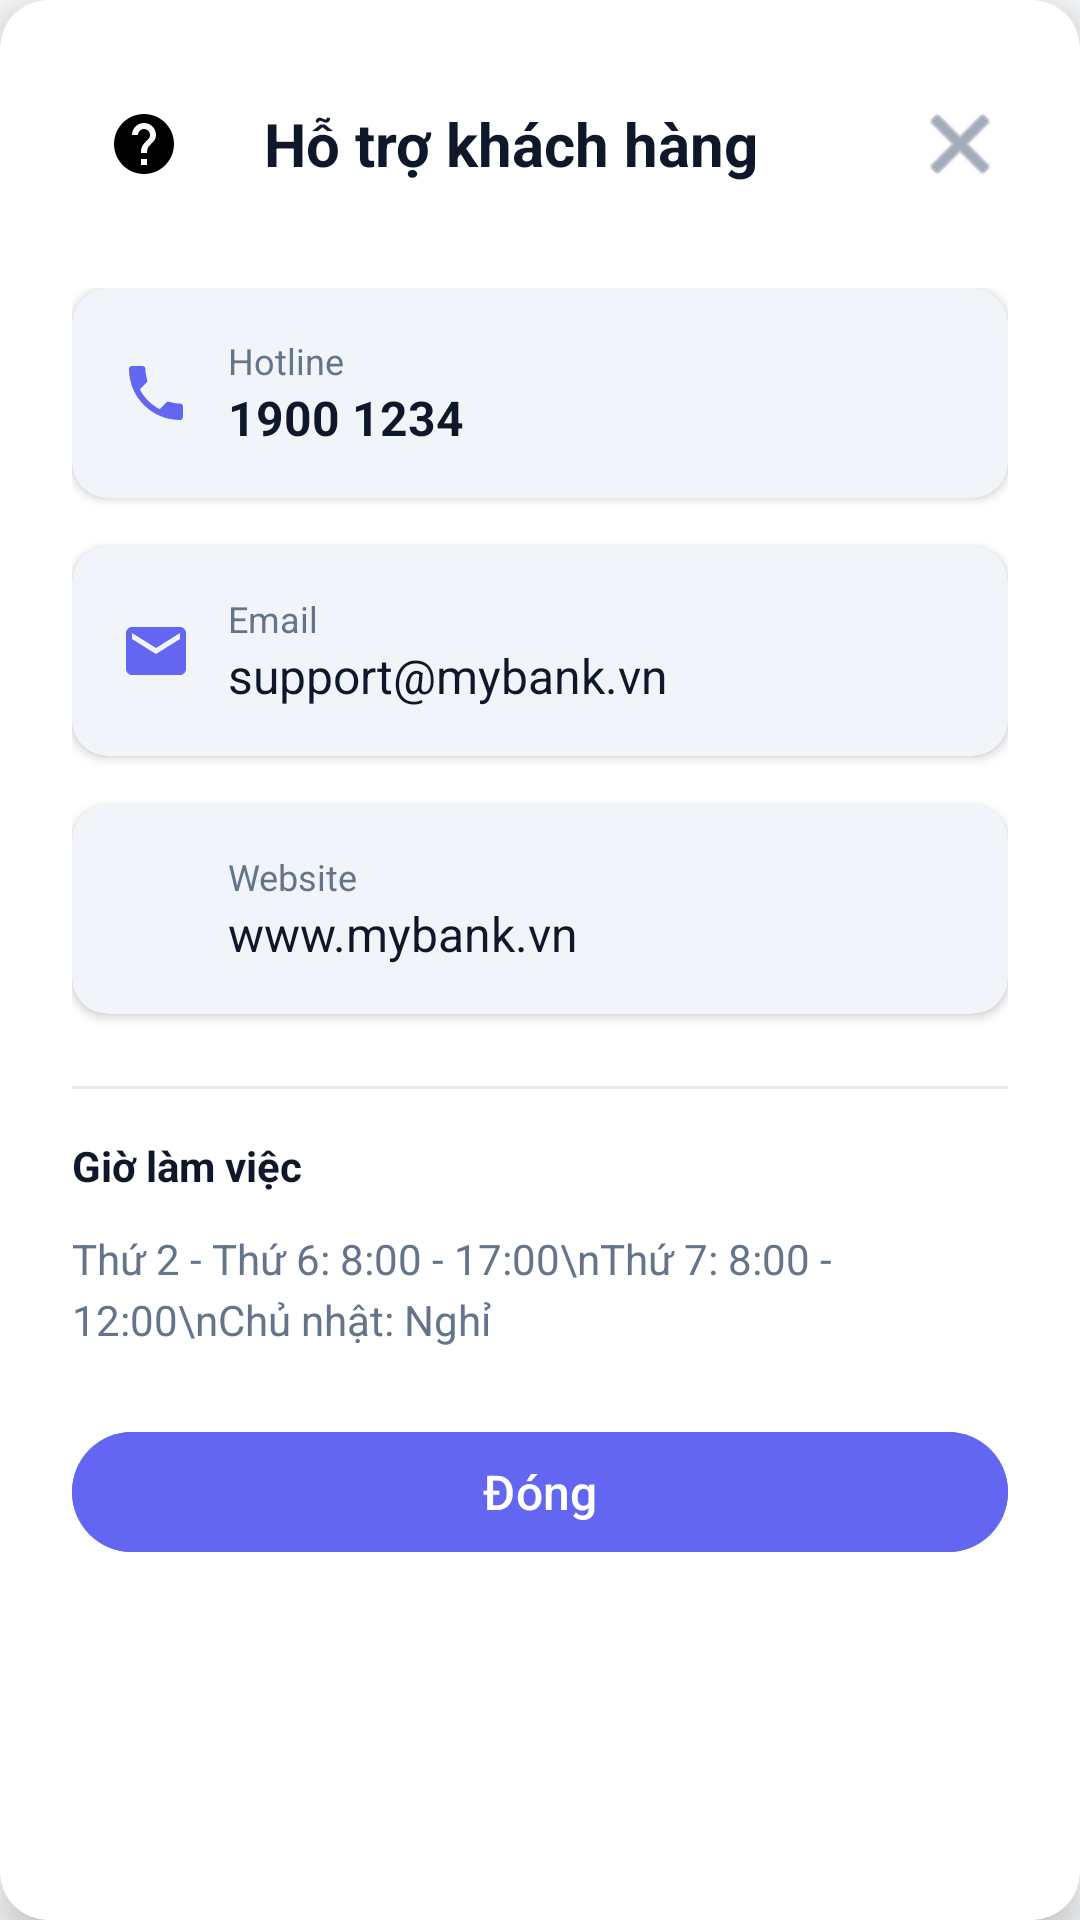

Icon bounding boxes for this 1080px×1920px phone screenshot, format region(x1, y1, x2, y2):
Đóng: region(930, 114, 990, 174)
